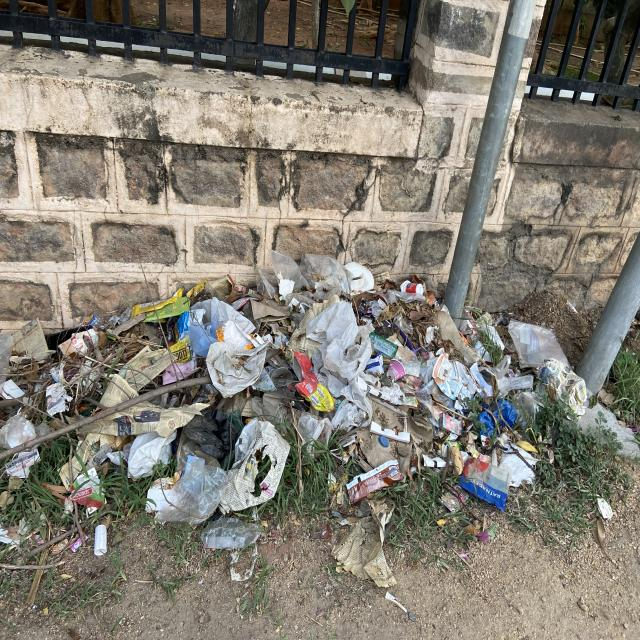biowaste: (399, 299, 437, 343)
paper: (220, 418, 290, 514), (206, 298, 270, 397), (332, 499, 397, 588), (77, 401, 206, 438), (287, 294, 340, 359), (118, 346, 170, 391), (71, 433, 114, 482), (433, 353, 477, 400), (201, 518, 261, 550), (101, 374, 135, 406), (408, 413, 434, 451), (344, 261, 375, 292), (316, 366, 346, 398), (250, 300, 290, 319), (170, 339, 190, 363), (443, 414, 463, 435), (387, 359, 406, 381), (58, 463, 70, 491)
plastic: (304, 300, 373, 381), (154, 456, 227, 528), (298, 381, 373, 450), (183, 409, 243, 463), (509, 320, 569, 368), (460, 458, 512, 512), (300, 254, 349, 297), (201, 518, 261, 550), (270, 249, 304, 298), (480, 399, 519, 437), (187, 308, 216, 358), (255, 266, 279, 298), (269, 367, 299, 389), (401, 280, 425, 298)
wrapper: (347, 460, 404, 504), (294, 351, 335, 412), (131, 288, 182, 317), (370, 332, 398, 359), (365, 352, 384, 376), (402, 396, 418, 408)
